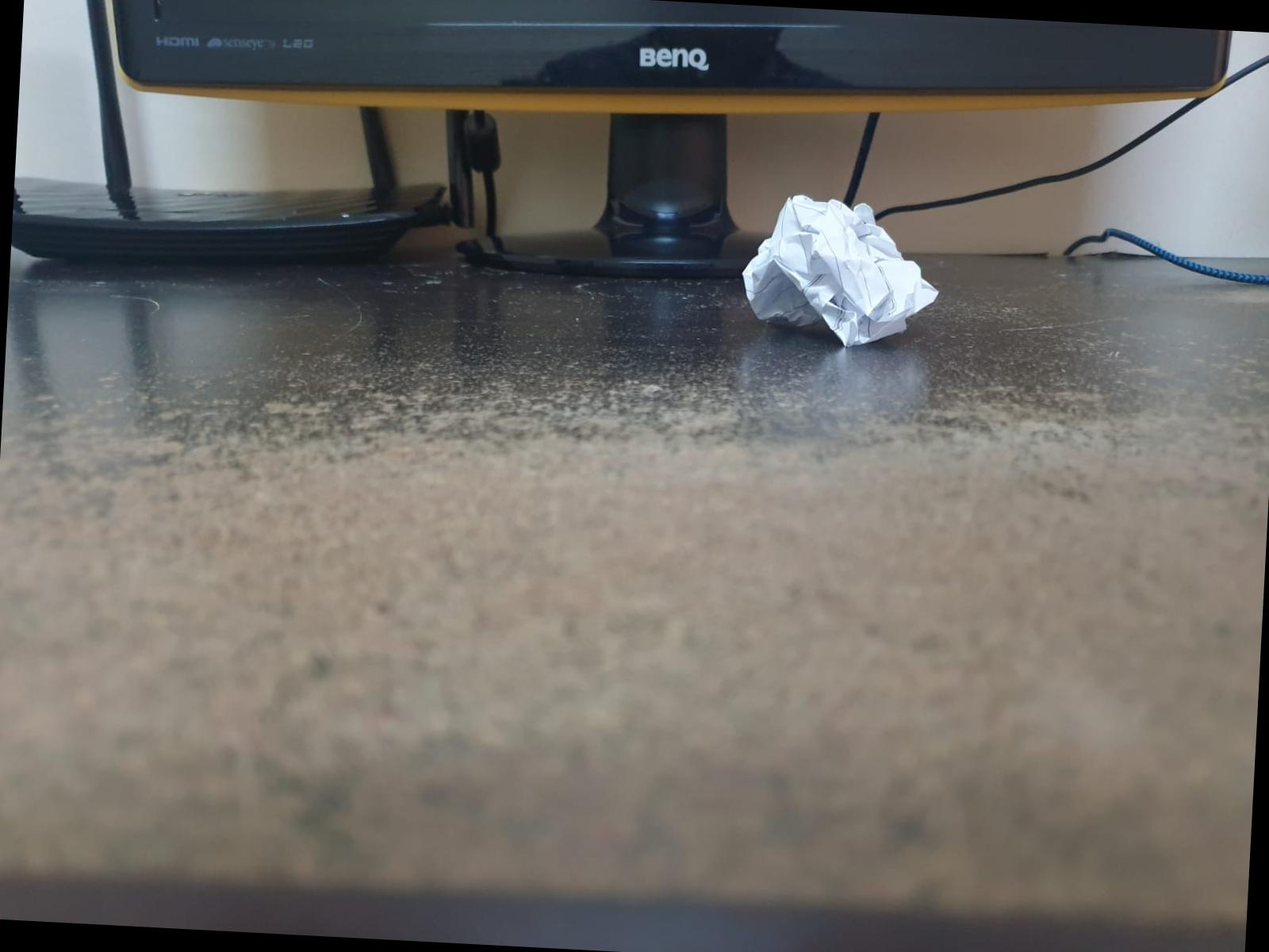Kertas: (738, 189, 943, 367), (744, 196, 937, 346)
